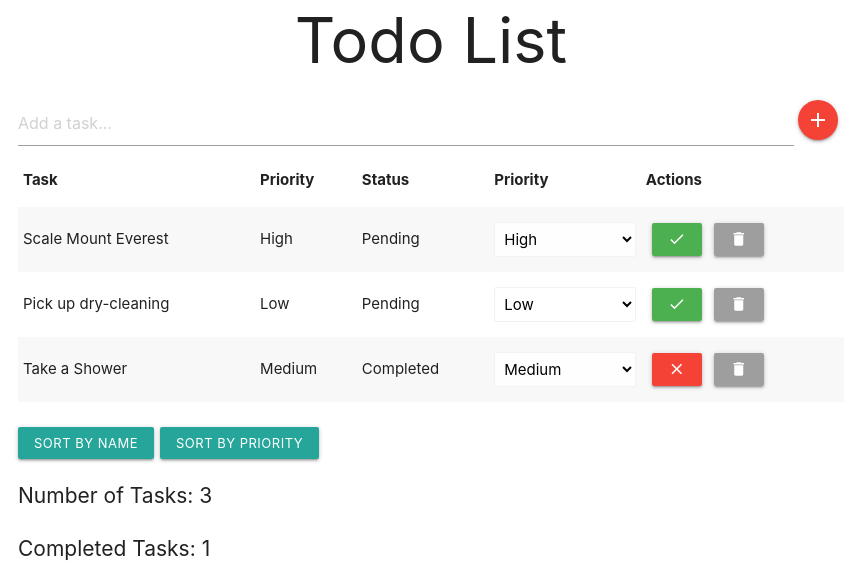
Test case: App › should sort the items by priority when the sort by priority button is clicked
Click the button with id "sort-by-priority" at (240, 443), box [160, 427, 319, 459]
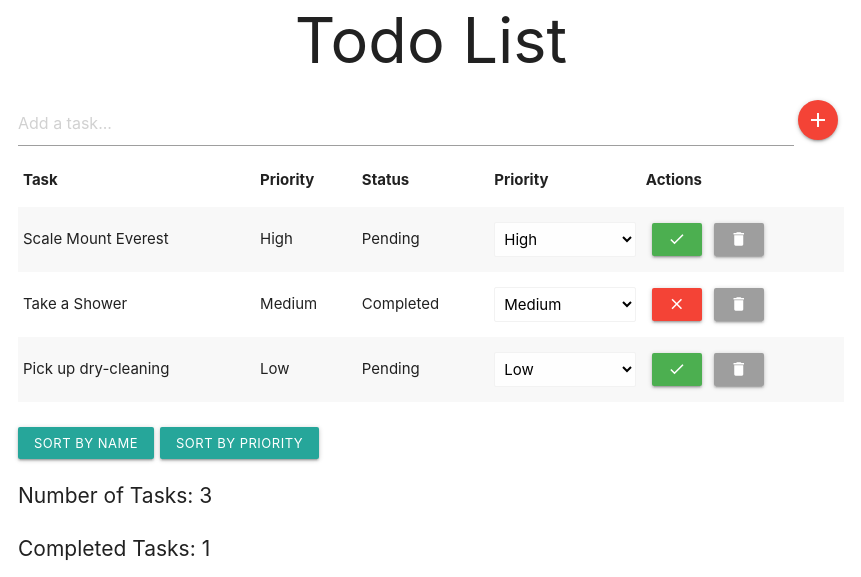
Expected: the row "Scale Mount Everest High Pending" is shown, [18, 207, 844, 272]
Expected: the row "Take a Shower Medium Completed" is shown, [18, 272, 844, 337]
Expected: the row "Pick up dry-cleaning Low Pending" is shown, [18, 337, 844, 402]
